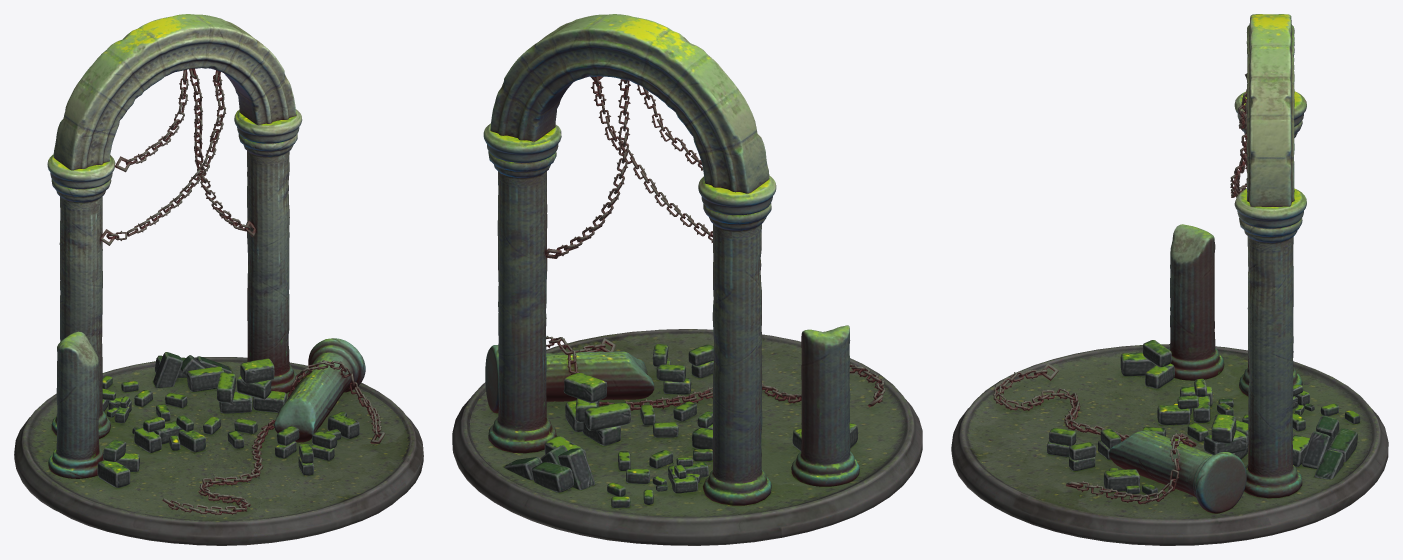
File: stylize_environment.glb
The picture shows the model from 3 angles, left to right: view 1: azimuth 30°, elevation 25°; view 2: azimuth 150°, elevation 25°; view 3: azimuth 270°, elevation 25°; orthographic projection. The views are drawn at different scales.
Parts seen in each view (by area): view 1: Base_low, Column1_low, ColumnTop02_low, Brick_low, Column2_low, Chain_low, ColumnTop01_low; view 2: Base_low, Column1_low, ColumnTop02_low, Brick_low, Column2_low, Chain_low, ColumnTop01_low; view 3: Base_low, Column1_low, Column2_low, Brick_low, ColumnTop02_low, Chain_low, ColumnTop01_low.
Boxes of the visible parts, <box> form: Base_low: <box>14,357,423,545</box>; Column1_low: <box>51,133,297,438</box>; ColumnTop02_low: <box>53,14,296,170</box>; Brick_low: <box>97,352,359,487</box>; Column2_low: <box>48,331,365,478</box>; Chain_low: <box>100,68,385,514</box>; ColumnTop01_low: <box>47,109,302,188</box>; Base_low: <box>452,329,922,545</box>; Column1_low: <box>488,151,771,505</box>; ColumnTop02_low: <box>490,14,769,193</box>; Brick_low: <box>504,344,858,507</box>; Column2_low: <box>485,325,859,486</box>; Chain_low: <box>545,76,885,410</box>; ColumnTop01_low: <box>483,123,776,215</box>; Base_low: <box>951,344,1388,545</box>; Column1_low: <box>1239,120,1302,498</box>; Column2_low: <box>1108,224,1246,513</box>; Brick_low: <box>1047,340,1360,496</box>; ColumnTop02_low: <box>1246,14,1294,206</box>; Chain_low: <box>993,73,1247,504</box>; ColumnTop01_low: <box>1234,91,1306,228</box>.
Bounding box in the file's own units: 0.19 × 0.2068 × 0.1899.
Materials: 1 (1 with a texture image).
